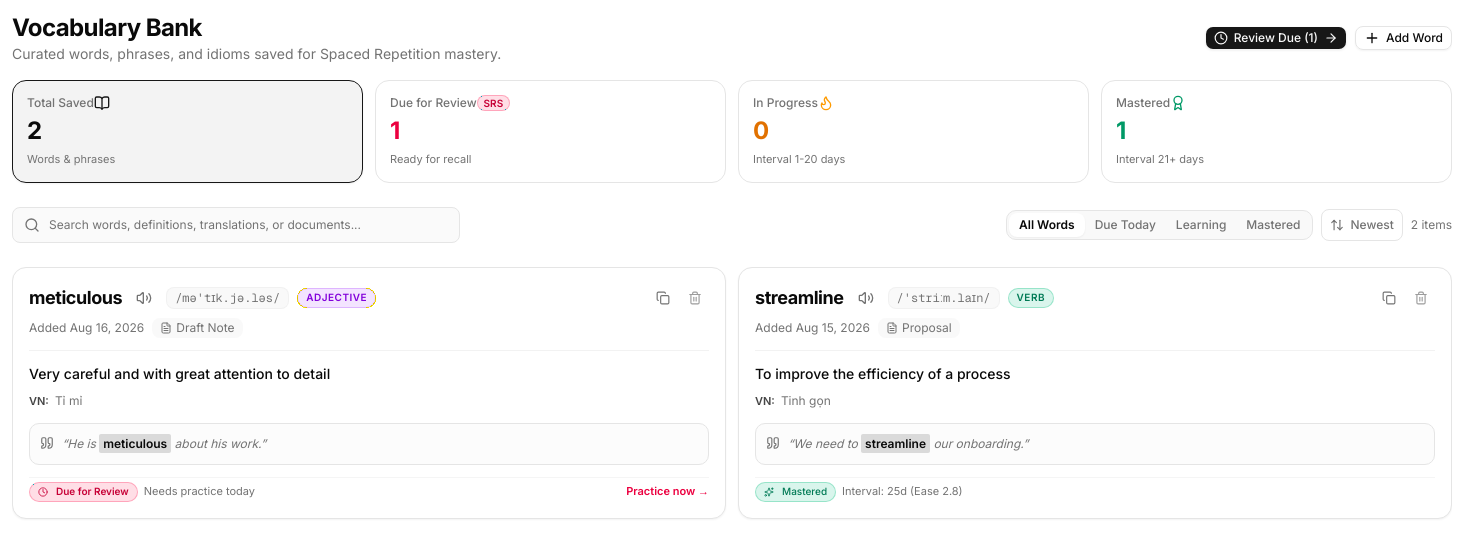
VocabularyBank component › filters items by search input
Type "detail" into the field with placeholder "Search words, definitions, translations, or documents...". click: [236, 224]
box: left=12, top=206, right=460, bottom=242
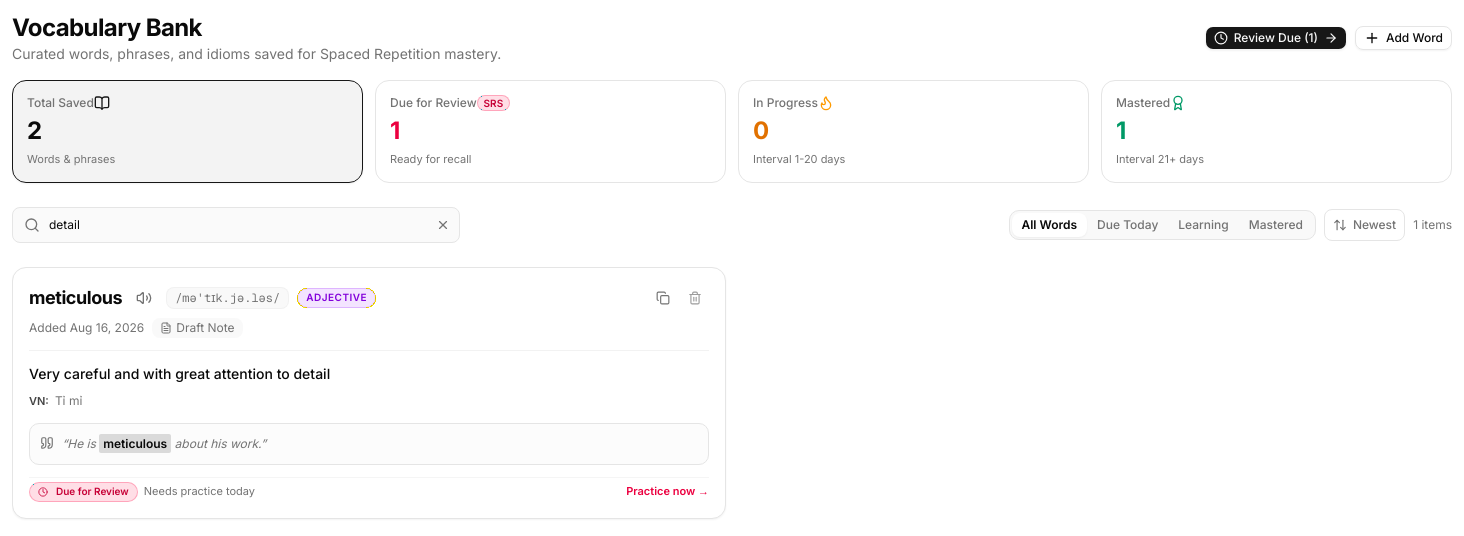
Expected: the heading "meticulous" is shown, left=29, top=284, right=122, bottom=312
Now the heading "streamline" is gone
